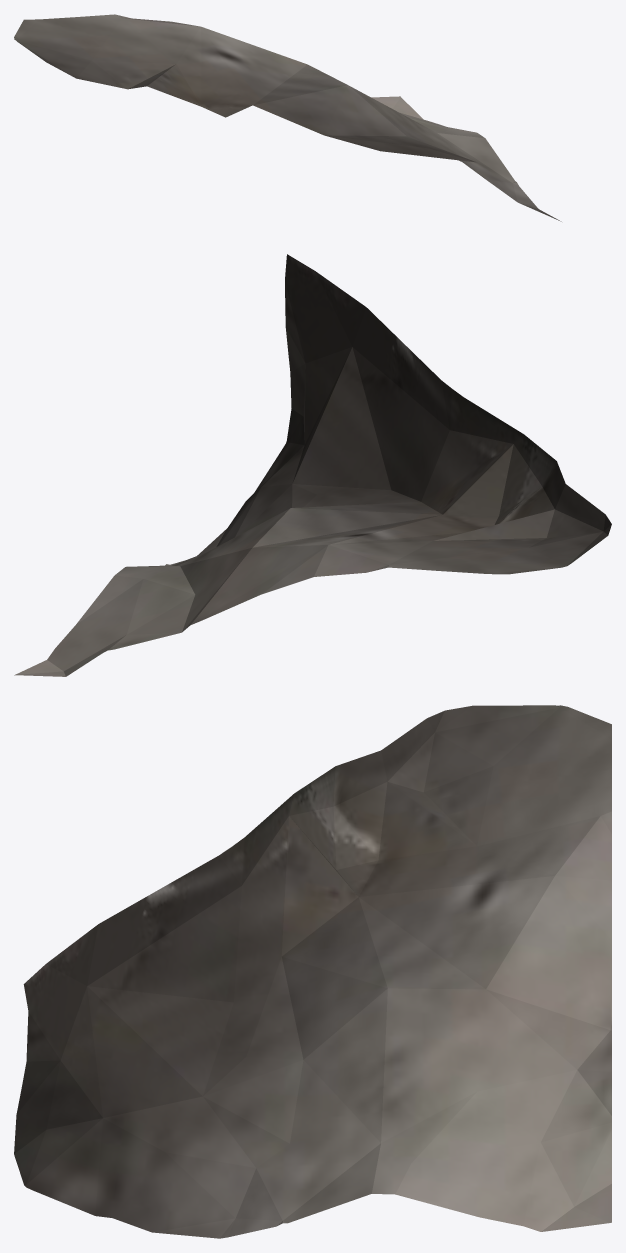
The picture shows the model from 3 angles, top to bottom: view 1: azimuth 30°, elevation 25°; view 2: azimuth 150°, elevation 25°; view 3: azimuth 270°, elevation 25°; orthographic projection. The views are drawn at different scales.
Bounding box in the file's own units: 1.17 × 0.4968 × 1.06.
Materials: 1 (1 with a texture image).
